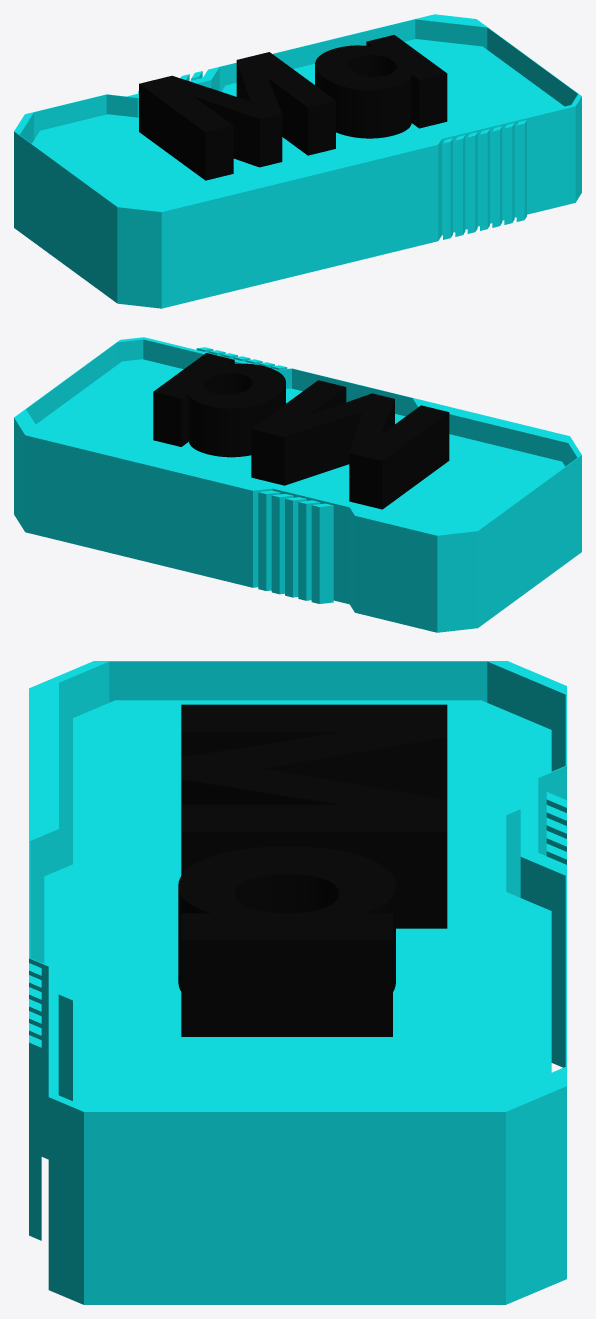
The model's file is 11.HurufMa.glb.
3 renders of one model, top to bottom at view 1: azimuth 30°, elevation 25°; view 2: azimuth 150°, elevation 25°; view 3: azimuth 270°, elevation 25°, orthographic. The views are drawn at different scales.
Visible parts, largest first — view 1: Curve.184, Curve.178, Curve.192, Curve.193, Curve.191, Curve.190, Curve.186, Curve.187, Curve.189, Curve.185, Curve.188; view 2: Curve.184, Curve.178, Curve.192, Curve.193, Curve.183, Curve.182, Curve.179, Curve.181, Curve.180; view 3: Curve.184, Curve.178, Curve.192, Curve.193, Curve.191.
Part boxes in pixels (x1,y1,x2,y2): Curve.184: [14, 14, 581, 308]; Curve.178: [32, 39, 564, 207]; Curve.192: [139, 52, 335, 180]; Curve.193: [315, 35, 447, 138]; Curve.191: [516, 120, 526, 221]; Curve.190: [504, 123, 514, 224]; Curve.186: [455, 135, 465, 236]; Curve.187: [467, 132, 477, 233]; Curve.189: [492, 126, 502, 227]; Curve.185: [443, 138, 452, 239]; Curve.188: [480, 129, 489, 230]; Curve.184: [14, 337, 581, 632]; Curve.178: [36, 359, 565, 533]; Curve.192: [251, 380, 449, 509]; Curve.193: [153, 353, 285, 457]; Curve.183: [311, 503, 333, 603]; Curve.182: [298, 500, 320, 600]; Curve.179: [258, 490, 280, 590]; Curve.181: [285, 497, 306, 597]; Curve.180: [271, 494, 293, 594]; Curve.184: [29, 661, 566, 1304]; Curve.178: [44, 700, 551, 1111]; Curve.192: [181, 704, 447, 928]; Curve.193: [178, 846, 395, 1036]; Curve.191: [29, 1035, 41, 1240].
Size of the model in its own units: 0.2966 by 0.0788 by 0.1496.
